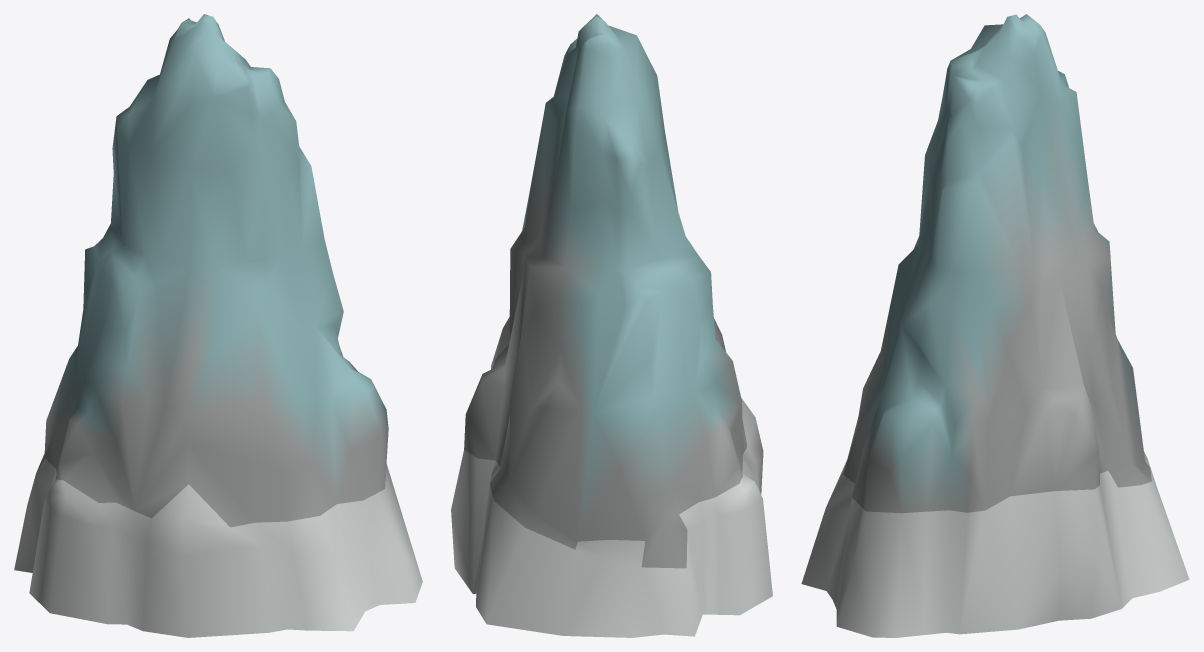
The picture shows the model from 3 angles, left to right: view 1: azimuth 30°, elevation 25°; view 2: azimuth 150°, elevation 25°; view 3: azimuth 270°, elevation 25°; orthographic projection.
Parts seen in each view (by area): view 1: G:\FFXIV-MapTools\exports\e3f1\bg\ex2\02_est_e3\fld\e3f1\bgp (×3); view 2: G:\FFXIV-MapTools\exports\e3f1\bg\ex2\02_est_e3\fld\e3f1\bgp (×3); view 3: G:\FFXIV-MapTools\exports\e3f1\bg\ex2\02_est_e3\fld\e3f1\bgp (×3).
Boxes of the visible parts, <box> form: G:\FFXIV-MapTools\exports\e3f1\bg\ex2\02_est_e3\fld\e3f1\bgp (×3): <box>14,14,422,637</box>; G:\FFXIV-MapTools\exports\e3f1\bg\ex2\02_est_e3\fld\e3f1\bgp (×3): <box>451,14,772,637</box>; G:\FFXIV-MapTools\exports\e3f1\bg\ex2\02_est_e3\fld\e3f1\bgp (×3): <box>801,14,1189,637</box>.
Bounding box in the file's own units: 55.88 × 94.17 × 59.22.
